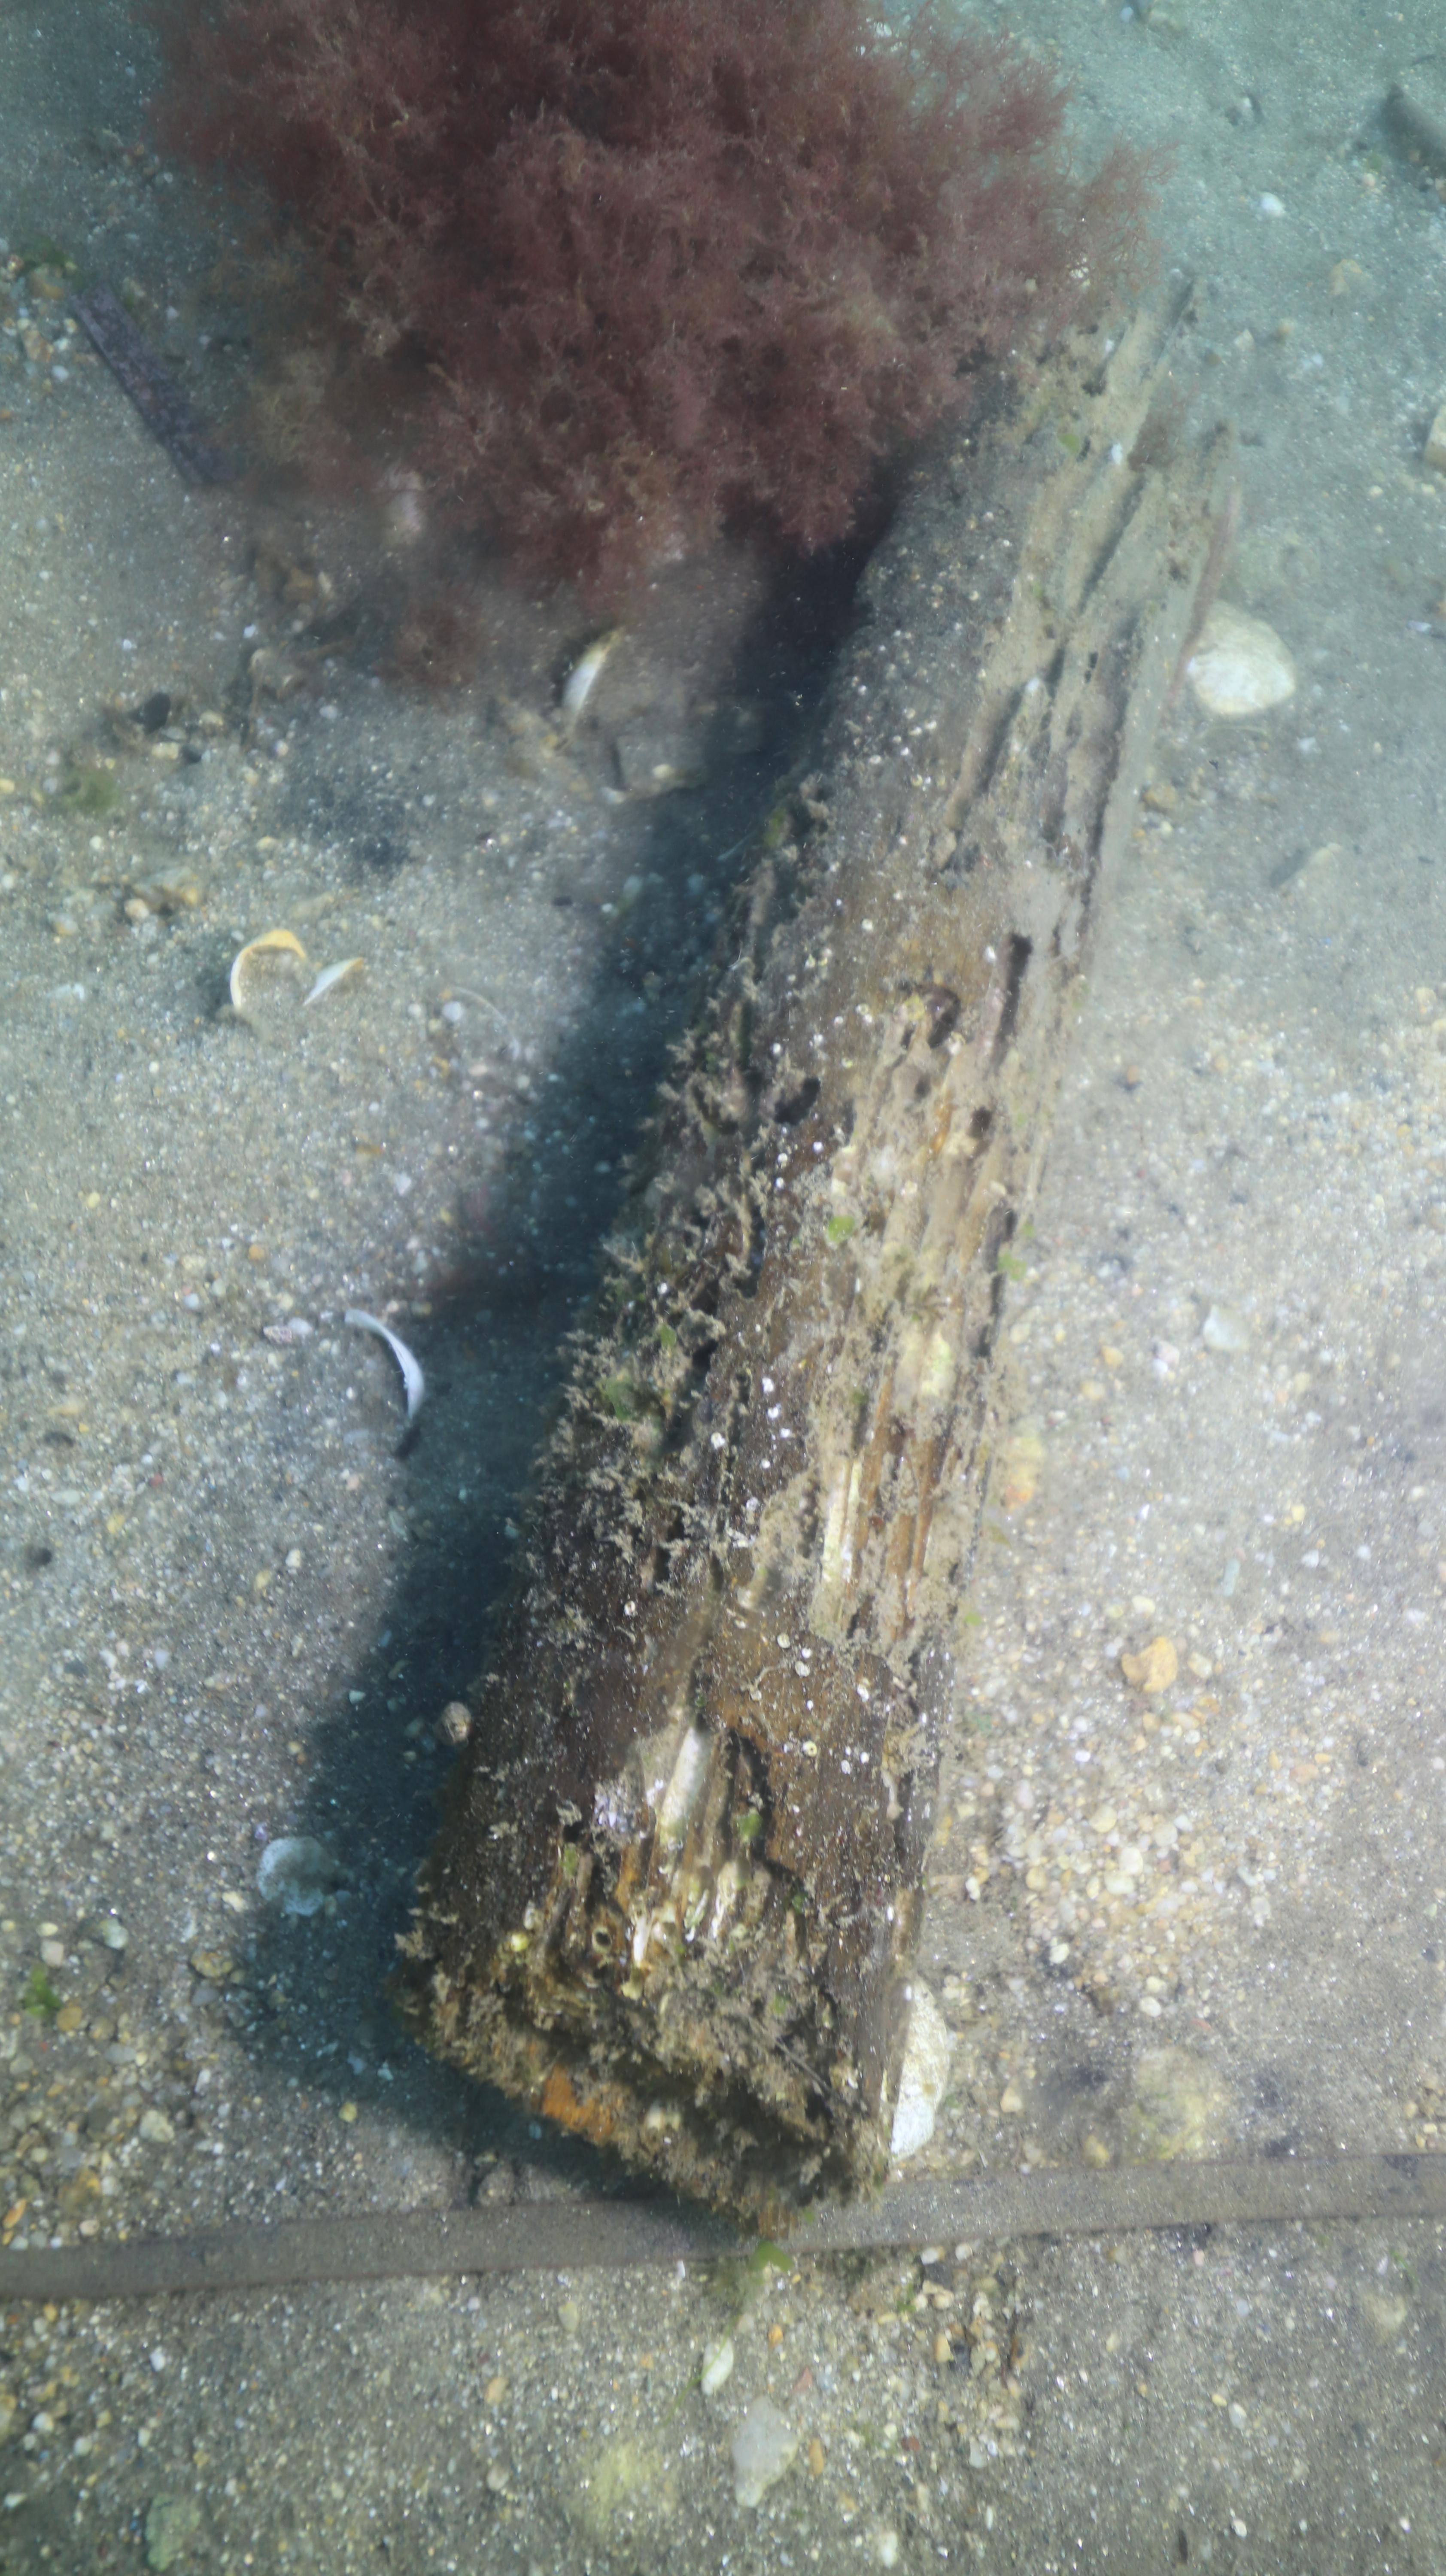wood: (223, 246, 1244, 2233)
